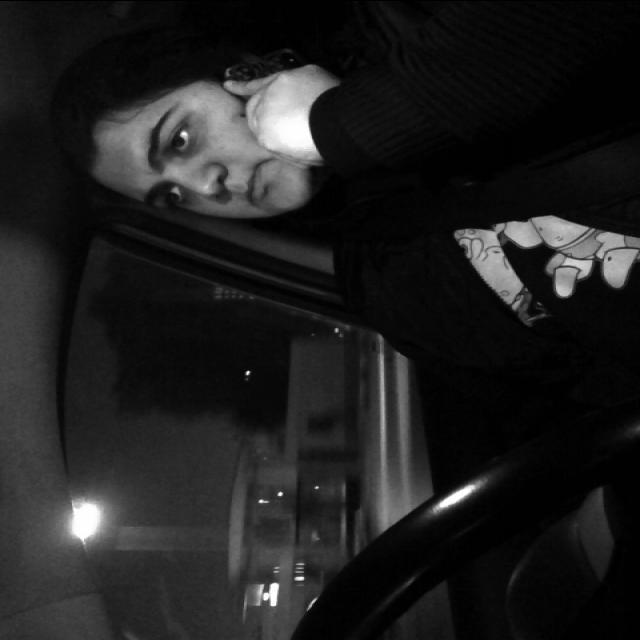mobile use: (218, 36, 378, 148)
